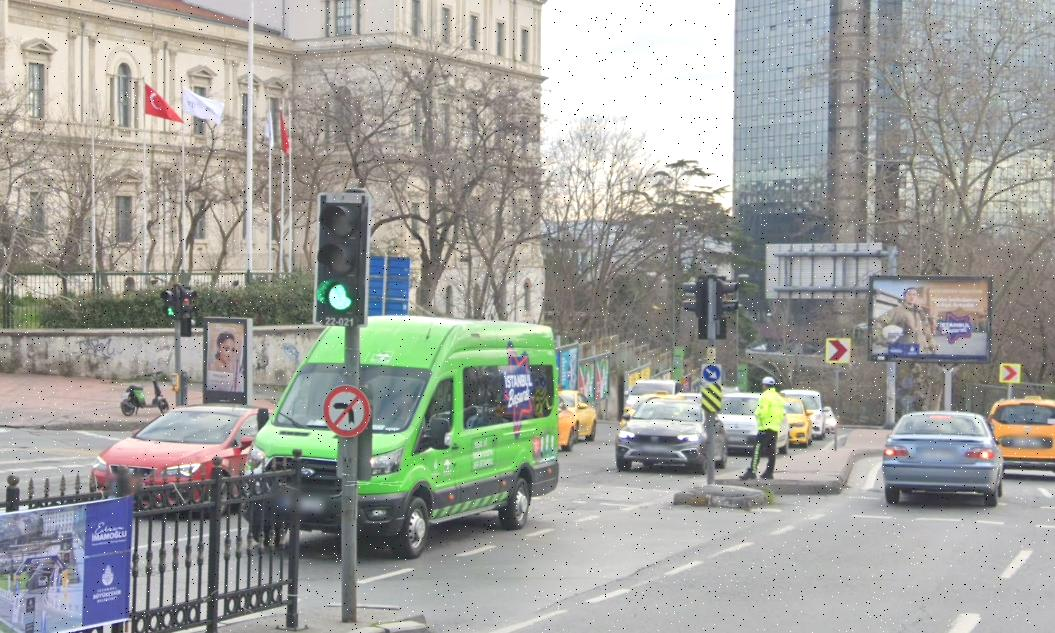greenlight: (315, 198, 363, 320)
leftturnsareforbidden: (324, 384, 371, 439)
